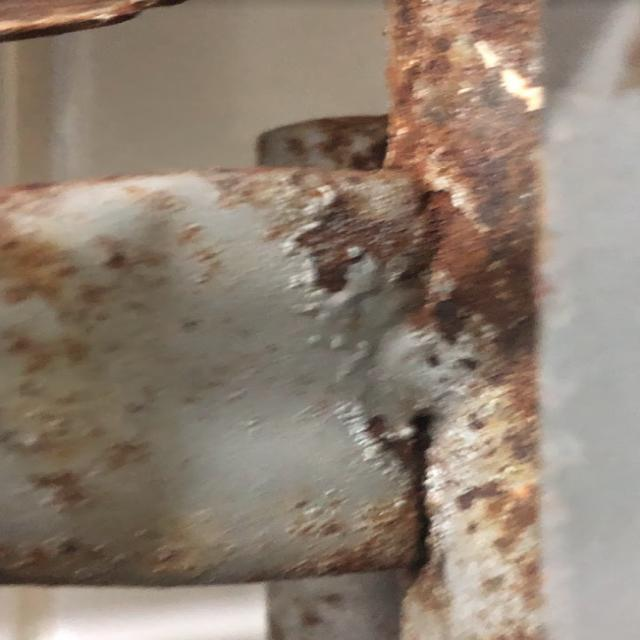Corrosion: (0, 0, 550, 638), (379, 0, 549, 638)
